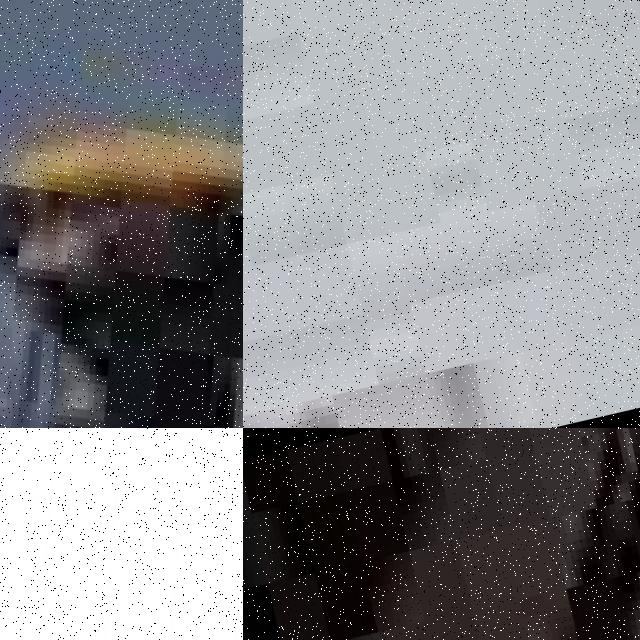0: (0, 0, 243, 428)
drone: (0, 428, 243, 640)
